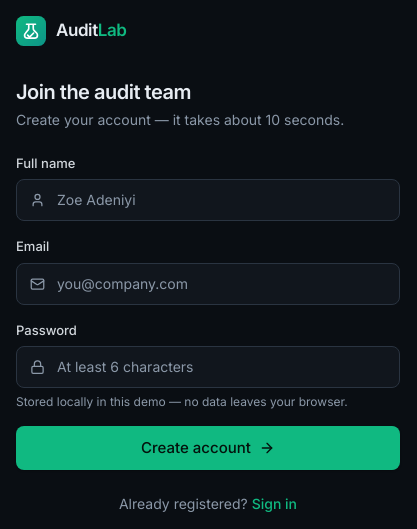
Test: signup with email confirmation › locks resend during the cooldown and unlocks it afterwards
Type "Pending User" into the field labelled "Full name" at (208, 200), box [16,179,400,221]
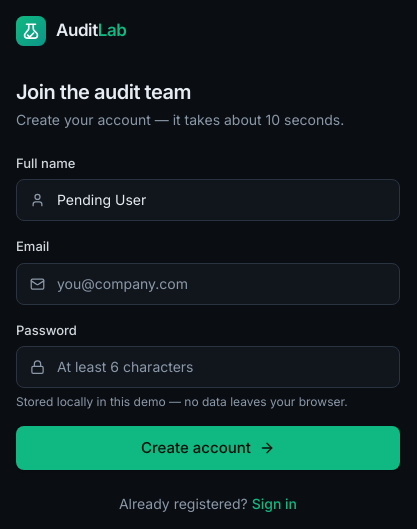
Type "pending@example.com" into the field labelled "Email" at (208, 284), box [16,263,400,305]
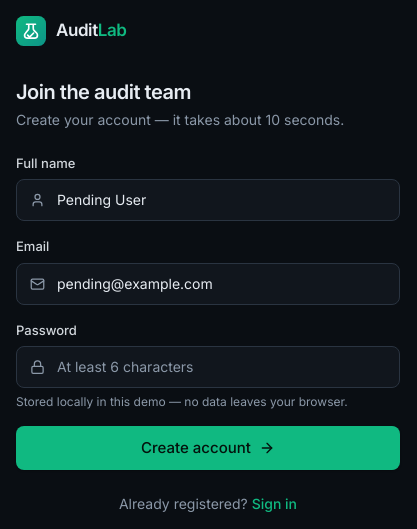
Type "pw123456" into the password field labelled "Password" at (208, 367), box [16,346,400,388]
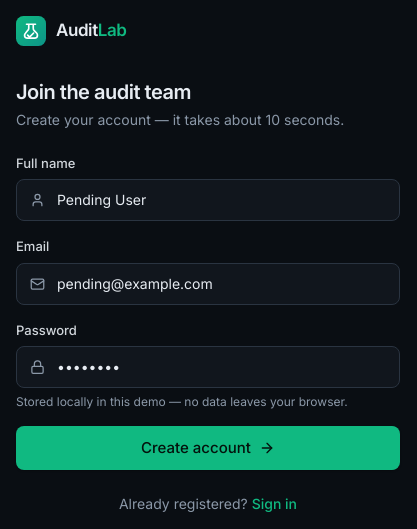
Click the button "Create account" at (208, 448), box [16,426,400,470]
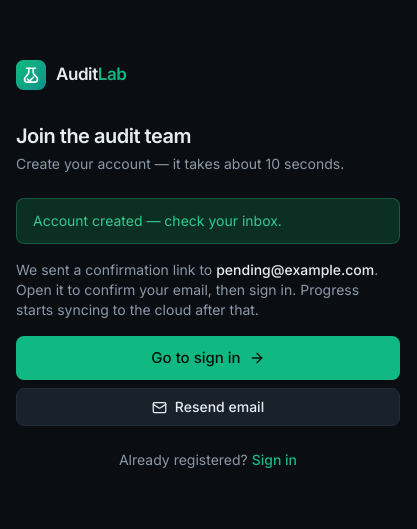
Expected: the text "Account created — check your inbox." is shown, [33,212,282,229]
Click the button "Resend email" at (208, 407), box [16,388,400,426]
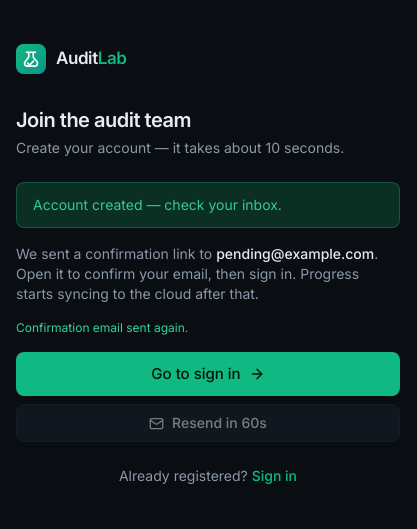
Expected: the text "Confirmation email sent again." is shown, [16,320,188,335]
Expected: the button "Resend in 60s" is disabled
Click the button "Resend in 60s" at (208, 423), box [16,404,400,442]
Wait 60000 ms
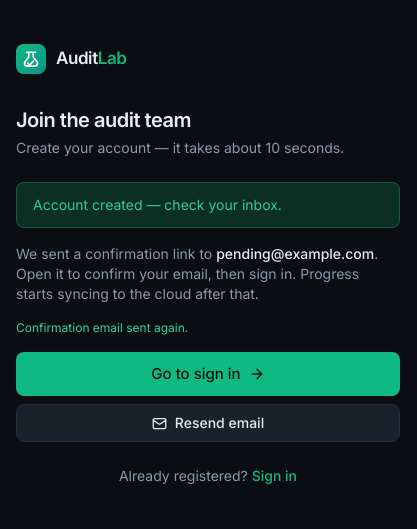
Expected: the button "Resend email" is enabled, [16,404,400,442]
